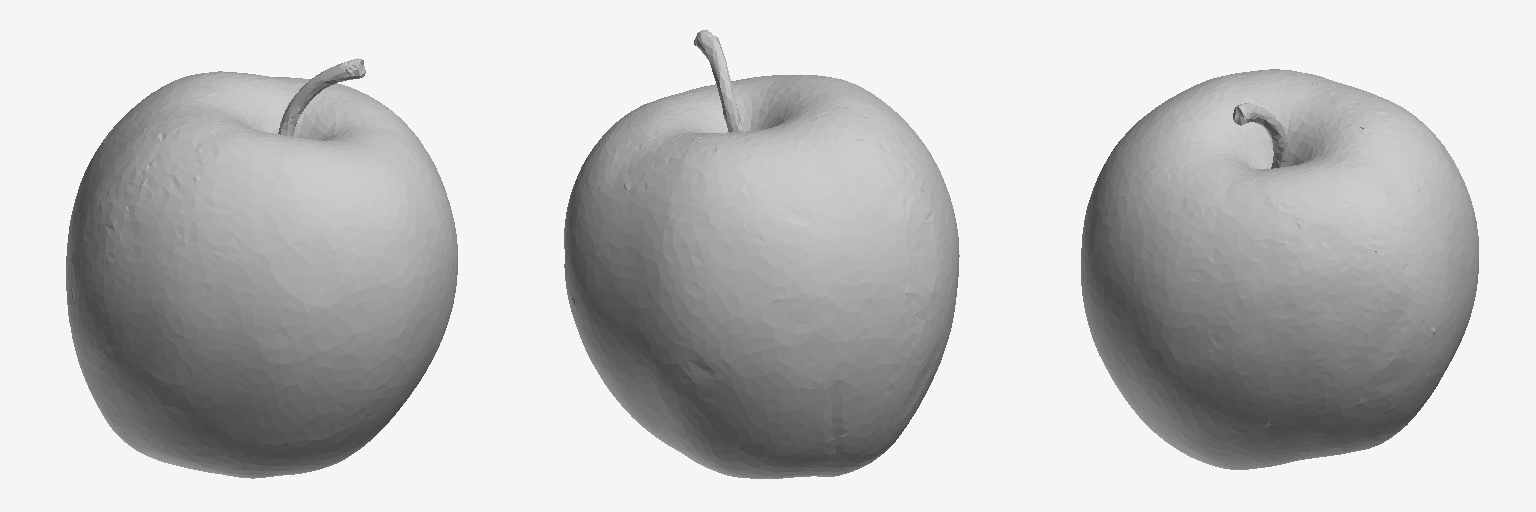
Rendered from apple.obj.
3 views of the same model, side by side, from view 1: azimuth 30°, elevation 25°; view 2: azimuth 150°, elevation 25°; view 3: azimuth 270°, elevation 25° (orthographic).
Parts seen in each view (by area): view 1: Apple_Food; view 2: Apple_Food; view 3: Apple_Food.
Part boxes in pixels (bbox=[...]): Apple_Food: bbox=[66, 58, 457, 478]; Apple_Food: bbox=[564, 30, 959, 478]; Apple_Food: bbox=[1081, 69, 1478, 469].
Bounding box in the file's own units: 1.09 × 1.16 × 1.1.